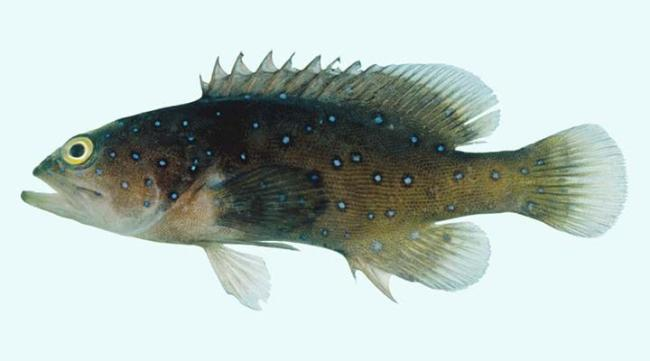fish: (23, 52, 629, 312)
